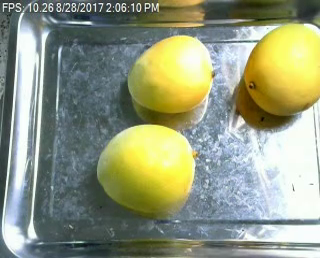Mango: (96, 121, 199, 211), (242, 20, 320, 113), (128, 34, 215, 115)
